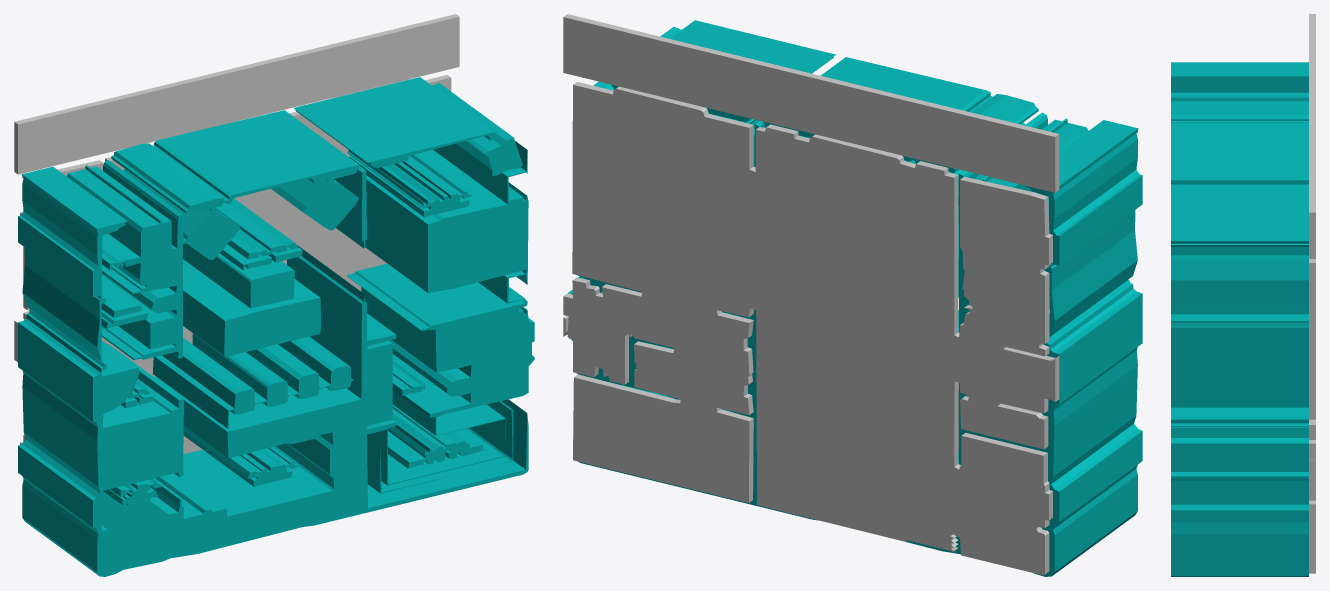
The picture shows the model from 3 angles, left to right: view 1: azimuth 30°, elevation 25°; view 2: azimuth 150°, elevation 25°; view 3: azimuth 270°, elevation 25°; orthographic projection. The views are drawn at different scales.
Parts seen in each view (by area): view 1: world; view 2: world; view 3: world.
Part boxes in pixels (x1,y1,x2,y2): world: [14, 14, 534, 576]; world: [563, 14, 1142, 576]; world: [1171, 14, 1315, 576].
Size of the model in its own units: 10.23 by 8.87 by 3.15.
